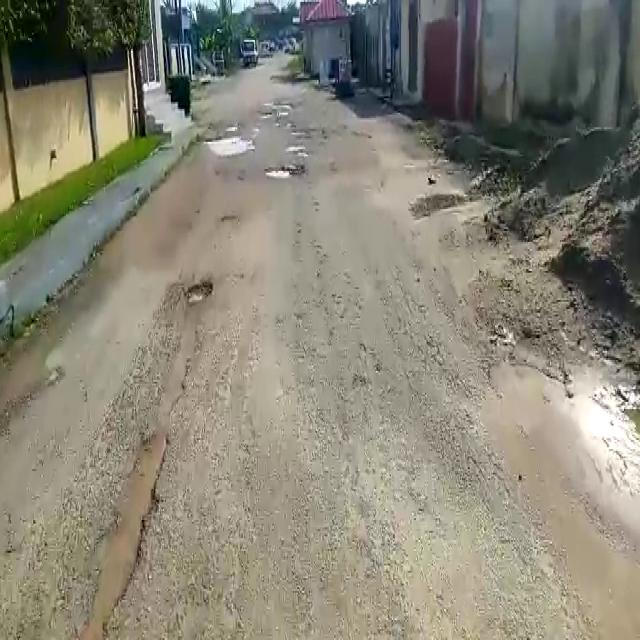Pothole: (203, 132, 255, 155), (186, 278, 212, 304), (264, 163, 301, 177)
